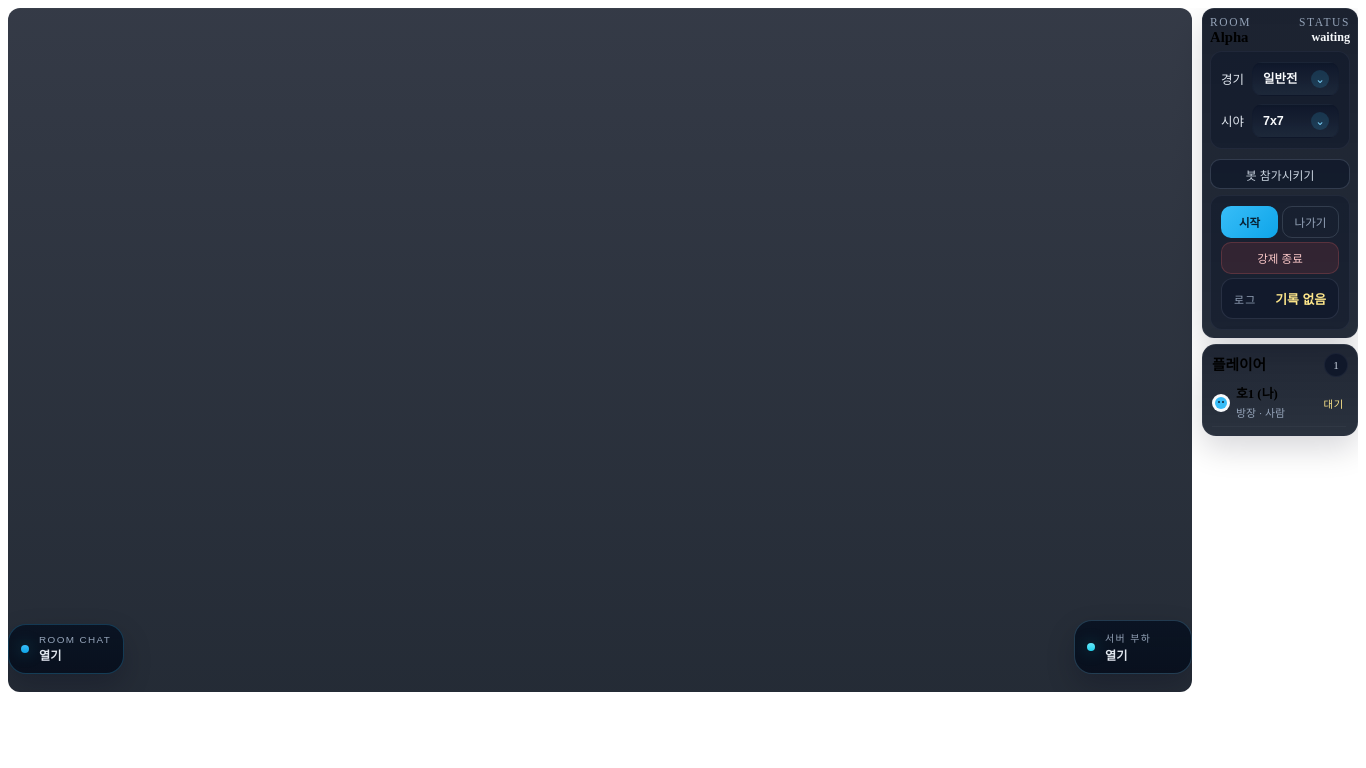
Test: GameScreen keyboard control › shows a metric tooltip when the info icon is hovered
Click the button with test id "server-health-toggle" at (1133, 647), box [1074,620,1192,674]
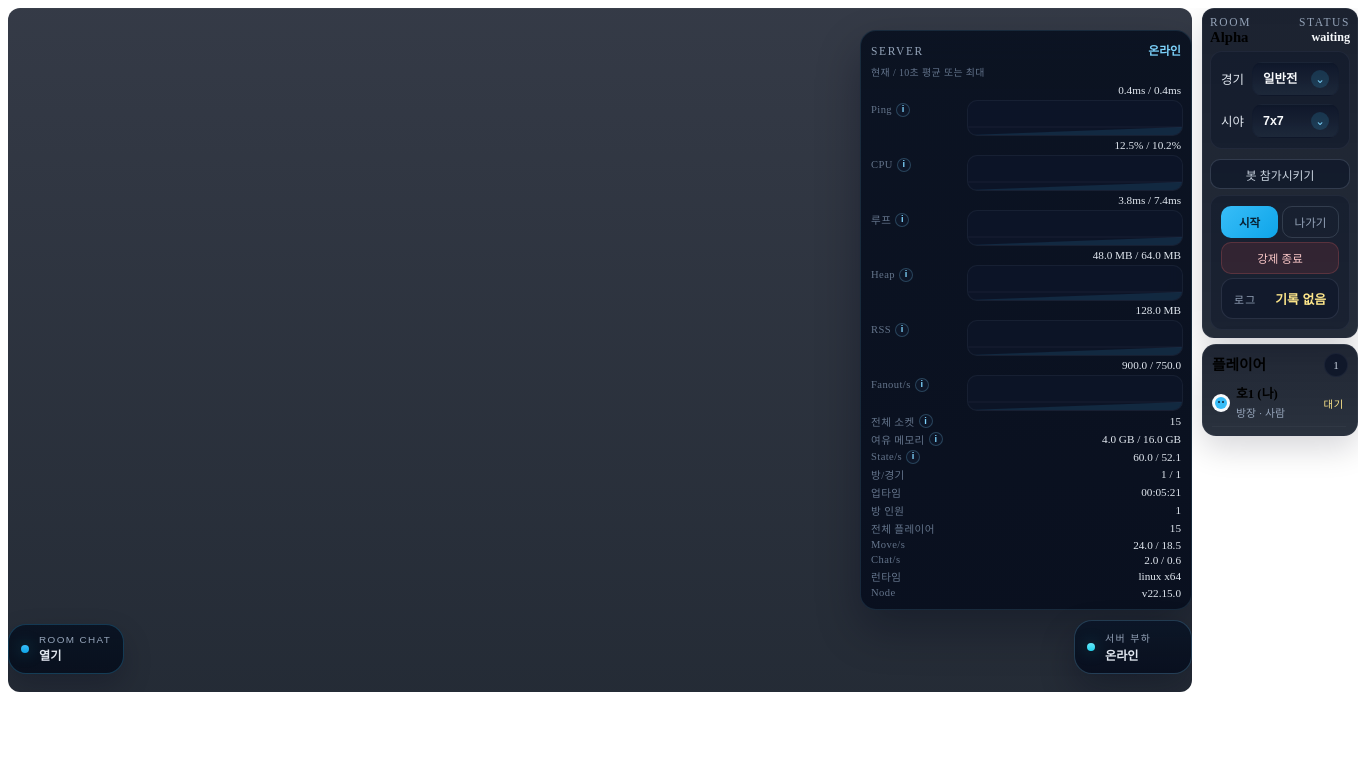
Expected: the button with test id "server-metric-info-cpu" is shown
Hover over the button with test id "server-metric-info-cpu" at (904, 165), box [897,158,911,172]
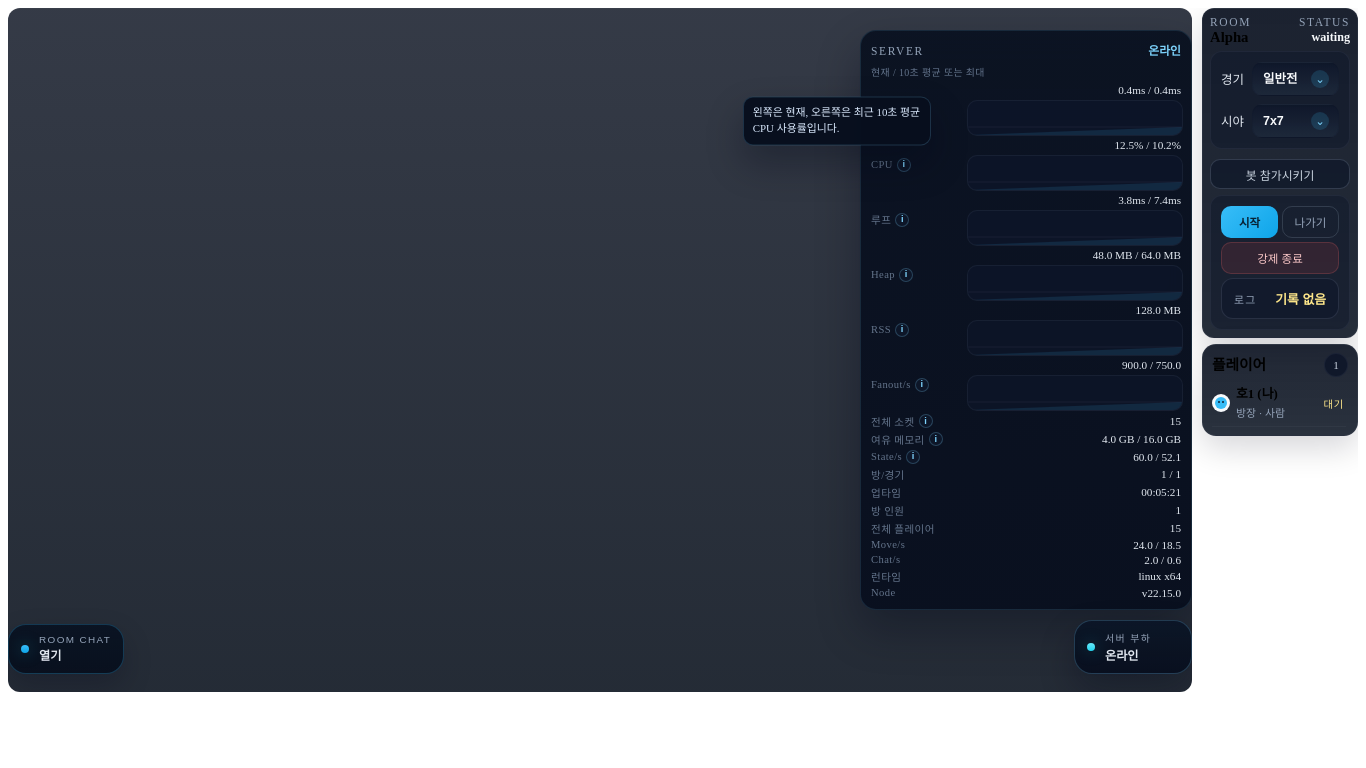
Expected: the tooltip with test id "server-metric-tooltip-cpu" shows "현재, 오른쪽은 최근 10초 평균 CPU 사용률", [753,106,920,134]
Move the pointer off the button with test id "server-metric-info-cpu", box [897,158,911,172]
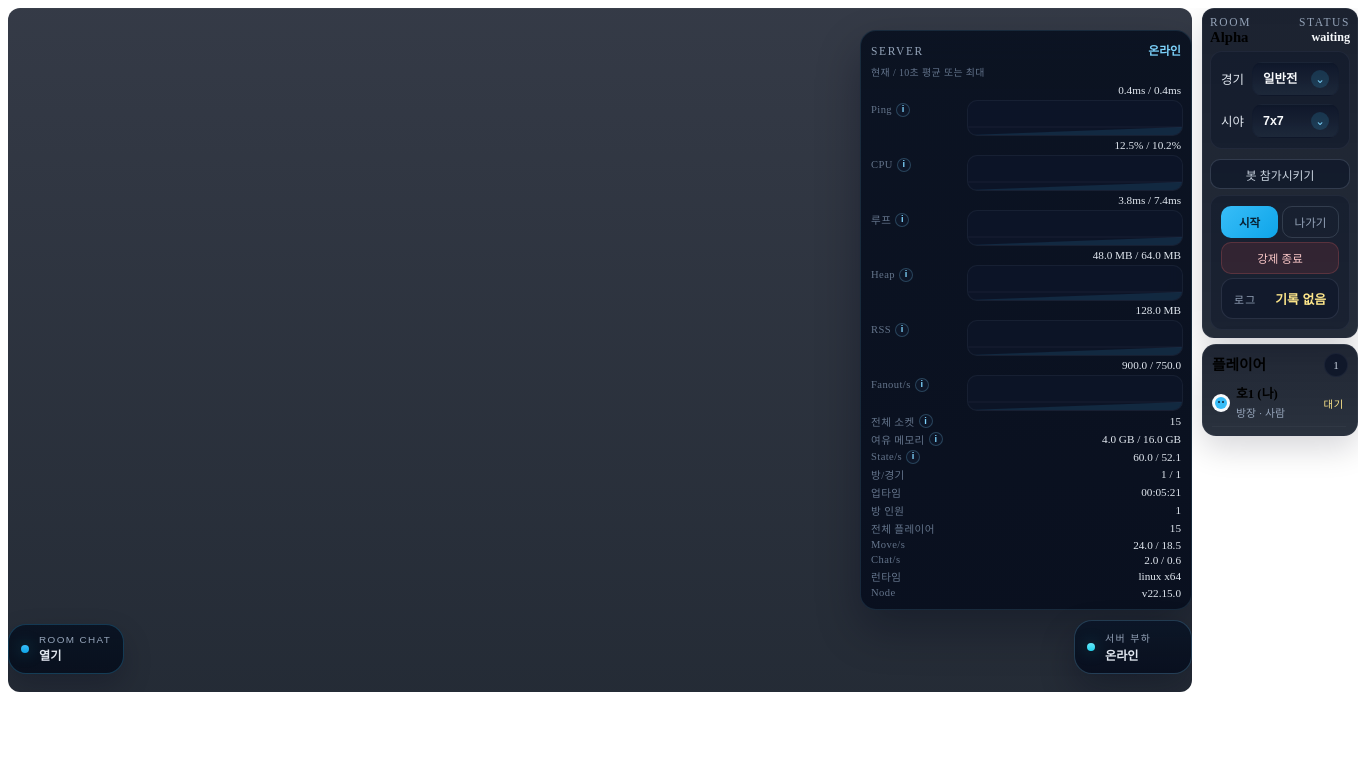
Expected: the tooltip with test id "server-metric-tooltip-cpu" is gone
